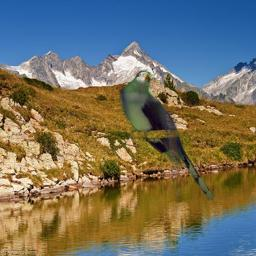Cuckoo: (119, 70, 221, 202)
